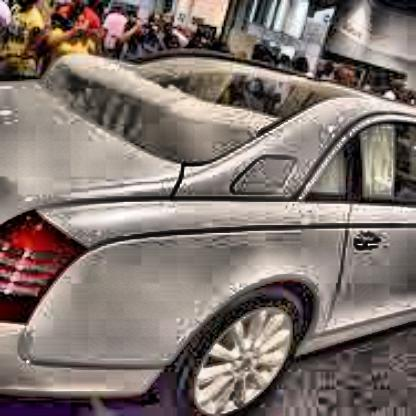Maybach Landaulet Convertible 2012: (4, 50, 416, 416)
